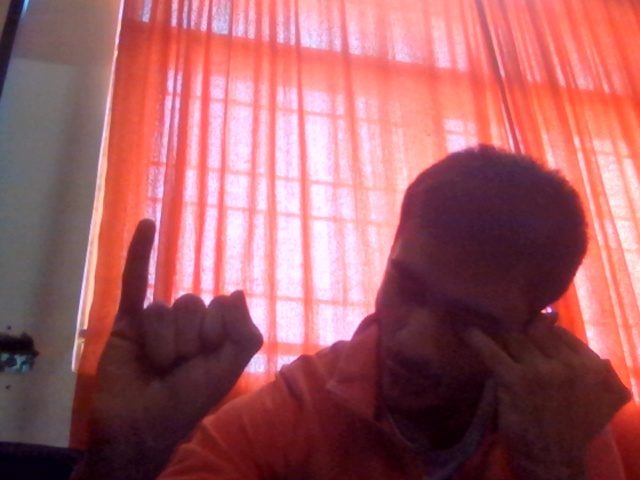I: (66, 190, 298, 480)
